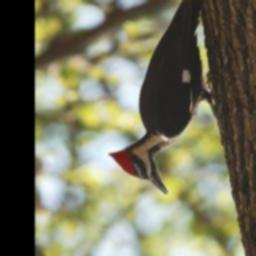Woodpecker: (109, 0, 232, 196)
